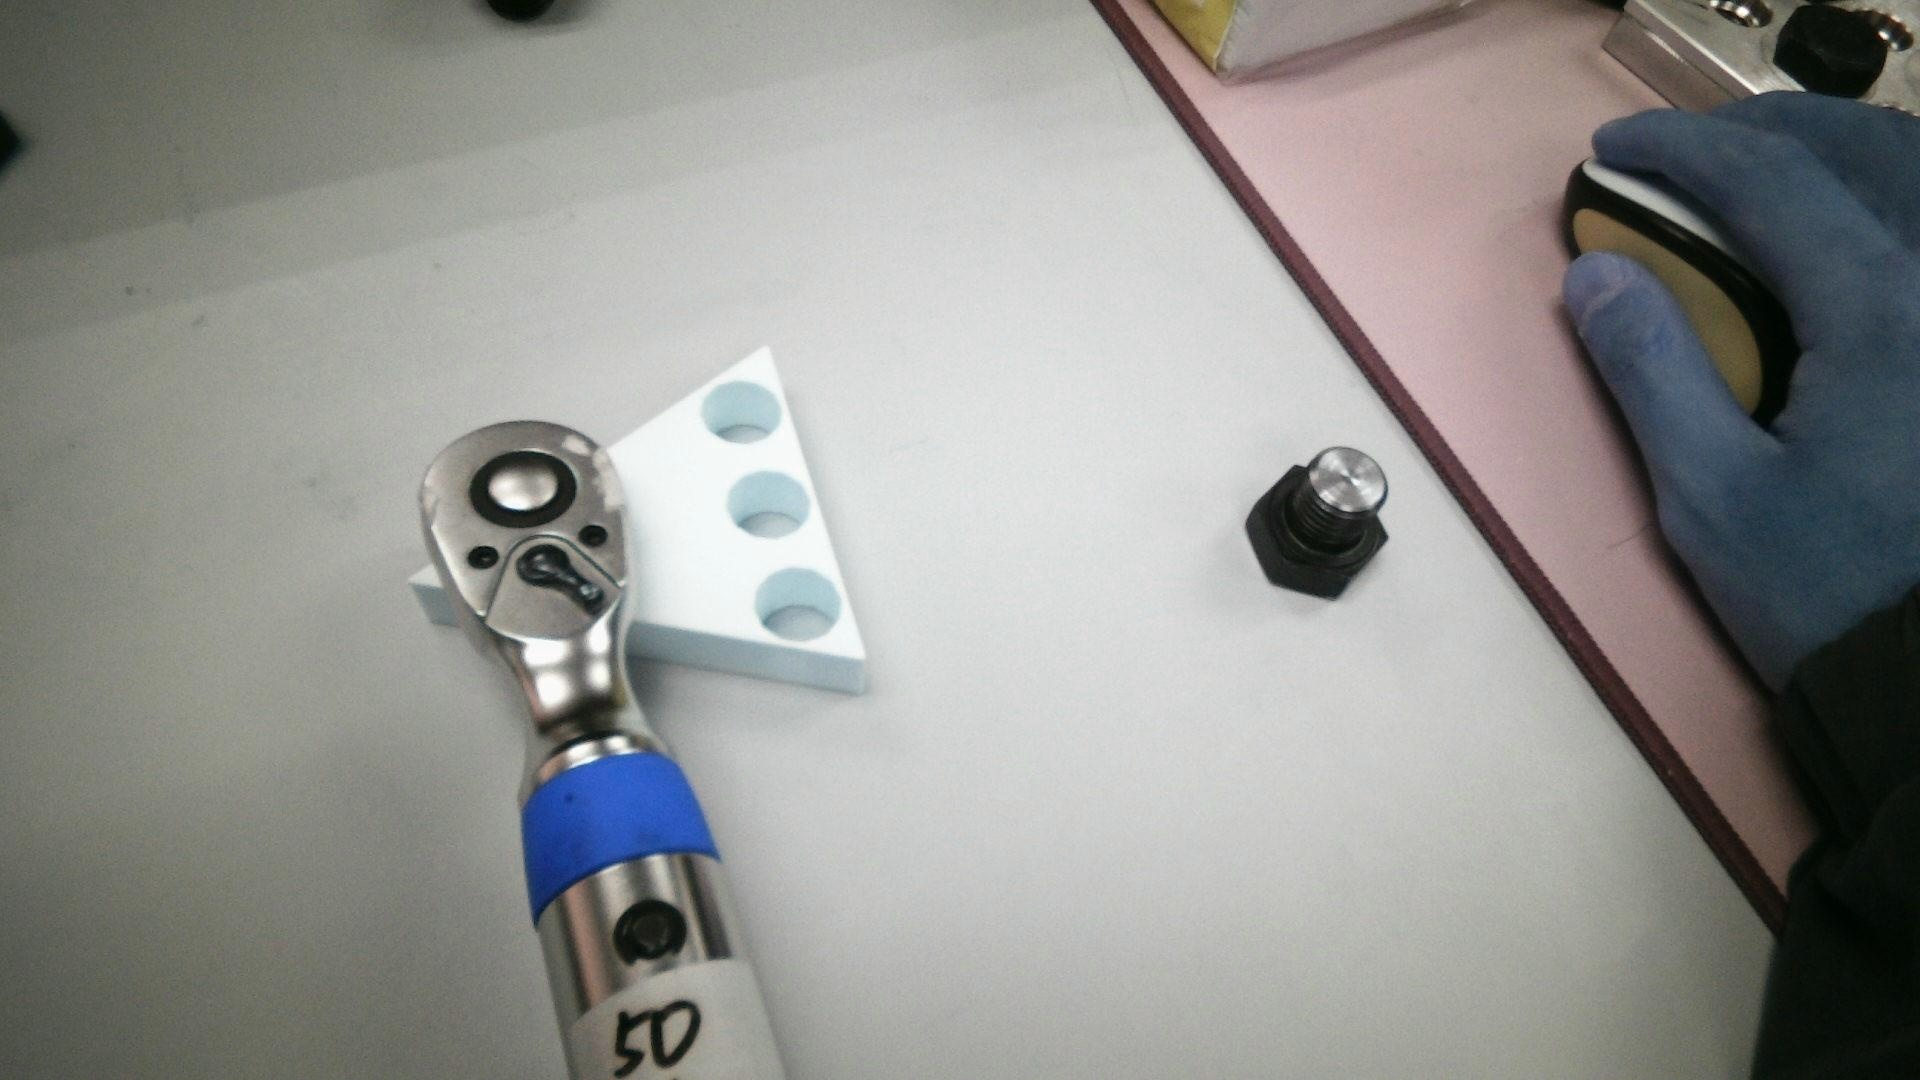hole: (754, 567, 843, 637), (728, 471, 812, 539), (702, 381, 783, 443)
obj: (407, 344, 866, 702)
wrench: (468, 451, 578, 530)
